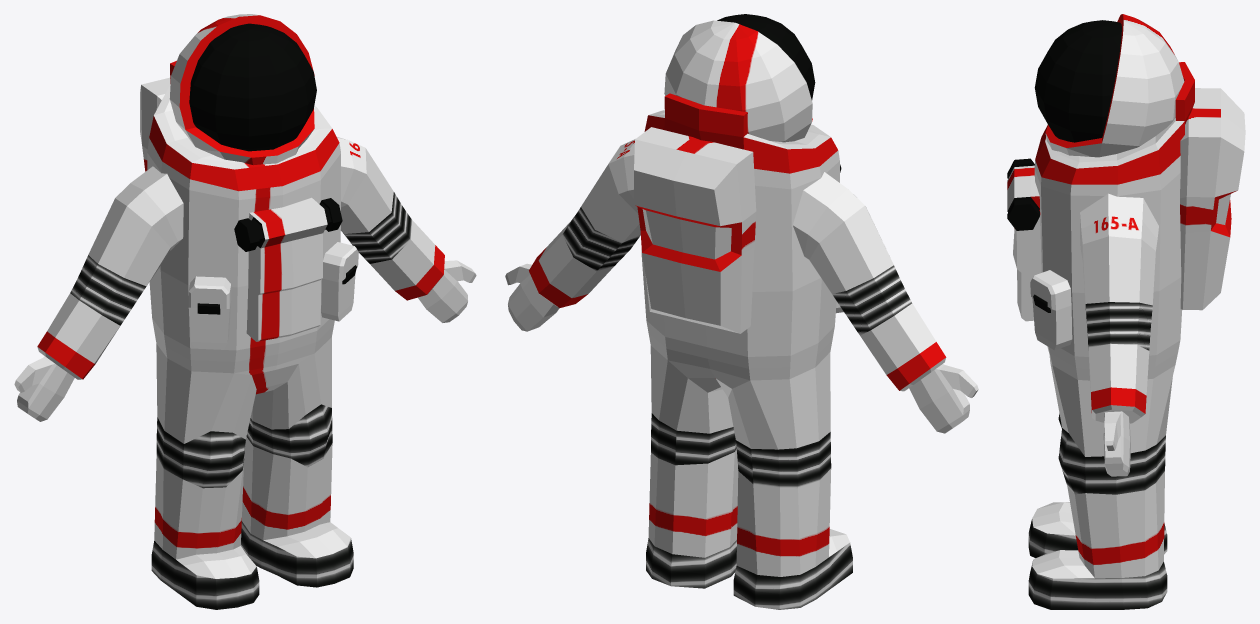
The model's file is astronaut.obj.
The picture shows the model from 3 angles, left to right: view 1: azimuth 30°, elevation 25°; view 2: azimuth 150°, elevation 25°; view 3: azimuth 270°, elevation 25°; orthographic projection. The views are drawn at different scales.
Visible parts, largest first — view 1: Astronaut_Cube.001; view 2: Astronaut_Cube.001; view 3: Astronaut_Cube.001.
Part boxes in pixels (box(x1,y1,x2,y2)): Astronaut_Cube.001: box(14, 14, 476, 609); Astronaut_Cube.001: box(505, 14, 978, 609); Astronaut_Cube.001: box(1007, 14, 1245, 609).
Bounding box in the file's own units: 0.5803 × 0.6566 × 0.2577.
